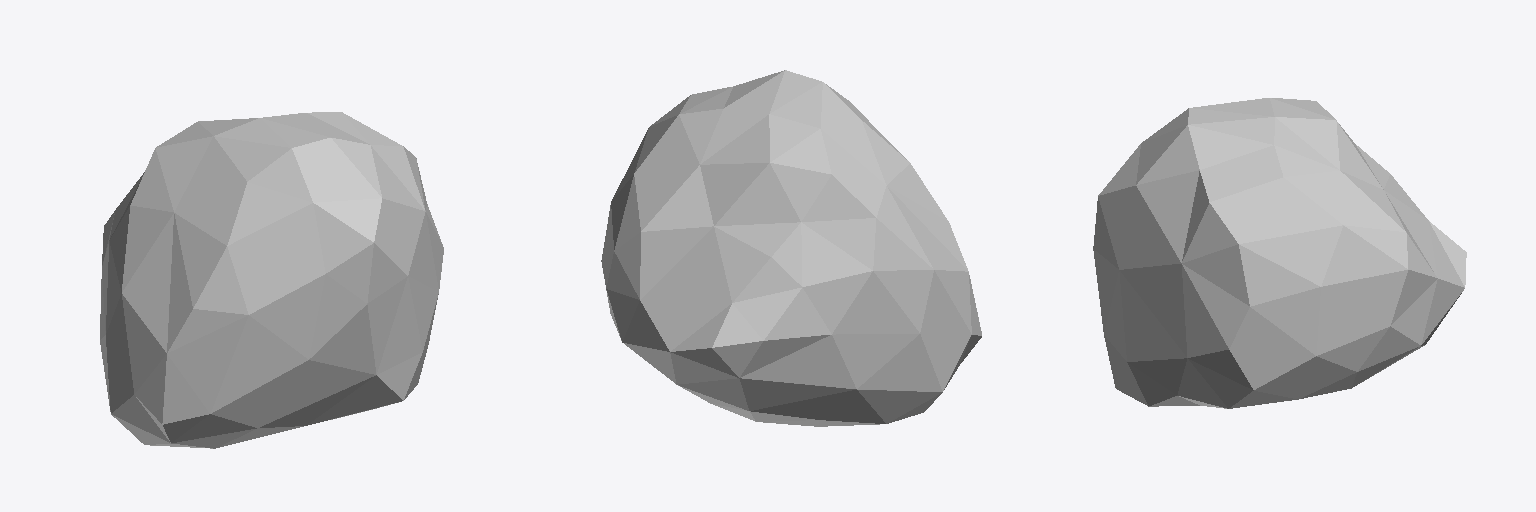
File: Rock_3_K_Color1.obj
3 views of the same model, side by side, from view 1: azimuth 30°, elevation 25°; view 2: azimuth 150°, elevation 25°; view 3: azimuth 270°, elevation 25° (orthographic).
Visible parts, largest first — view 1: Rock_3_K_Color1; view 2: Rock_3_K_Color1; view 3: Rock_3_K_Color1.
Boxes of the visible parts, <box> form: Rock_3_K_Color1: <box>100,112,443,448</box>; Rock_3_K_Color1: <box>601,70,981,426</box>; Rock_3_K_Color1: <box>1093,98,1466,408</box>.
Bounding box in the file's own units: 2.61 × 2.22 × 2.59.